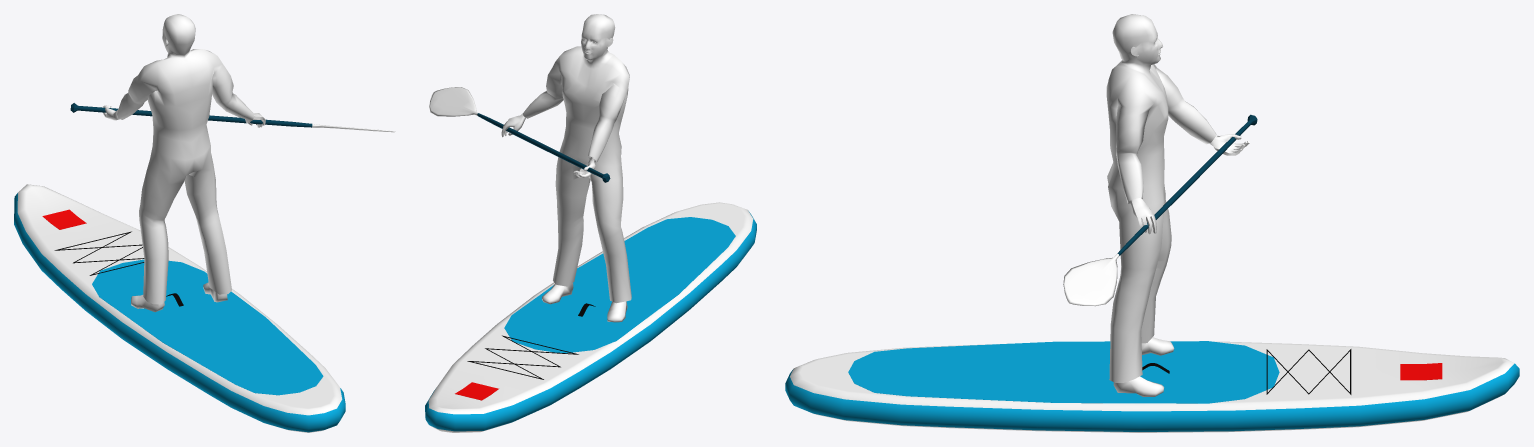
File: 35sup_people.glb
3 renders of one model, left to right at view 1: azimuth 30°, elevation 25°; view 2: azimuth 150°, elevation 25°; view 3: azimuth 270°, elevation 25°, orthographic. The views are drawn at different scales.
Visible parts, largest first — view 1: SUP, SUP_People, SeaKayak_All; view 2: SUP, SUP_People, SeaKayak_All; view 3: SUP, SUP_People, SeaKayak_All.
Part boxes in pixels (<box>): SUP: <box>14,184,345,432</box>; SUP_People: <box>102,14,265,312</box>; SeaKayak_All: <box>70,103,395,132</box>; SUP: <box>425,202,756,432</box>; SUP_People: <box>501,14,631,322</box>; SeaKayak_All: <box>429,87,610,182</box>; SUP: <box>785,341,1519,432</box>; SUP_People: <box>1106,14,1249,396</box>; SeaKayak_All: <box>1063,114,1257,306</box>.
Bounding box in the file's own units: 1.69 × 2.02 × 3.51.
